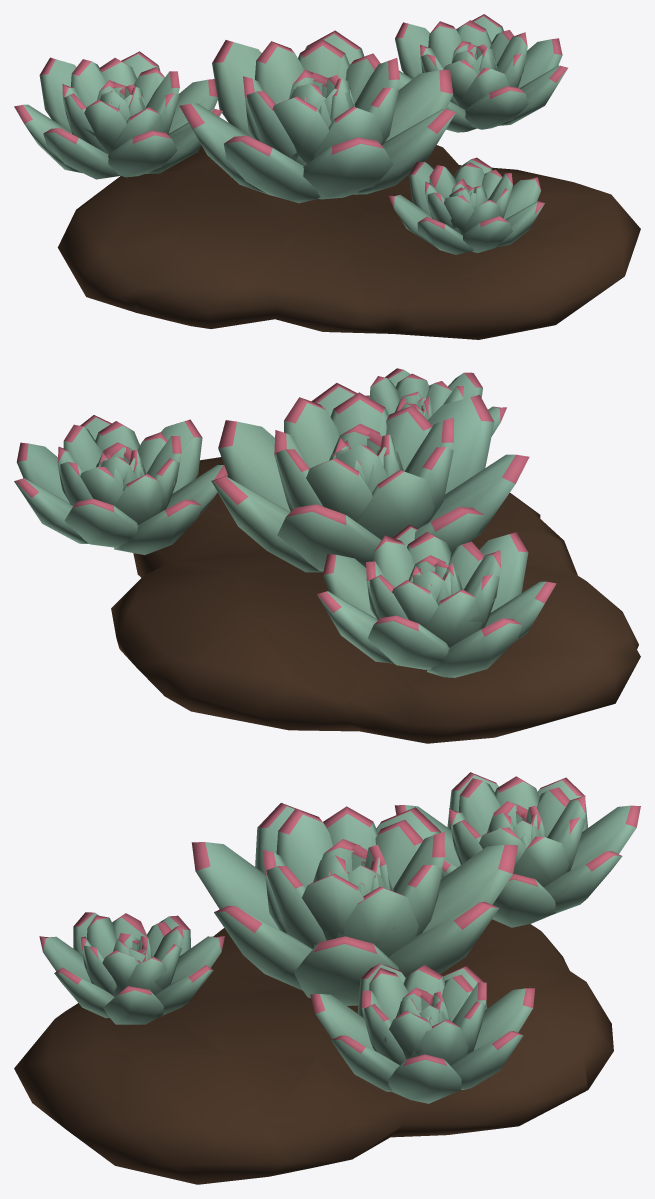
The model's file is canopy_succulents.glb.
The picture shows the model from 3 angles, top to bottom: view 1: azimuth 30°, elevation 25°; view 2: azimuth 150°, elevation 25°; view 3: azimuth 270°, elevation 25°; orthographic projection. The views are drawn at different scales.
Visible parts, largest first — view 1: canopy_succulents; view 2: canopy_succulents; view 3: canopy_succulents.
Part boxes in pixels (<box>): canopy_succulents: <box>14,14,640,339</box>; canopy_succulents: <box>14,368,640,743</box>; canopy_succulents: <box>14,772,640,1184</box>.
Size of the model in its own units: 5.71 by 2.33 by 5.37.
